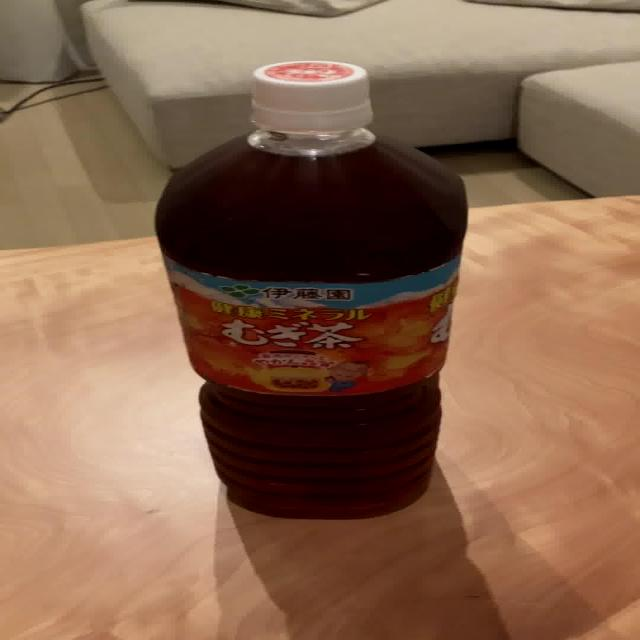bottle: (150, 57, 470, 520)
